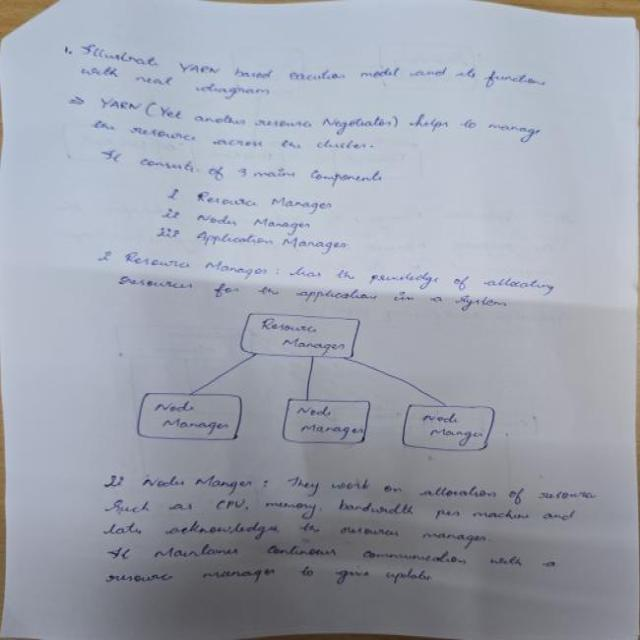Figure Detection - v3 Dataset Version2: (124, 306, 515, 471)
